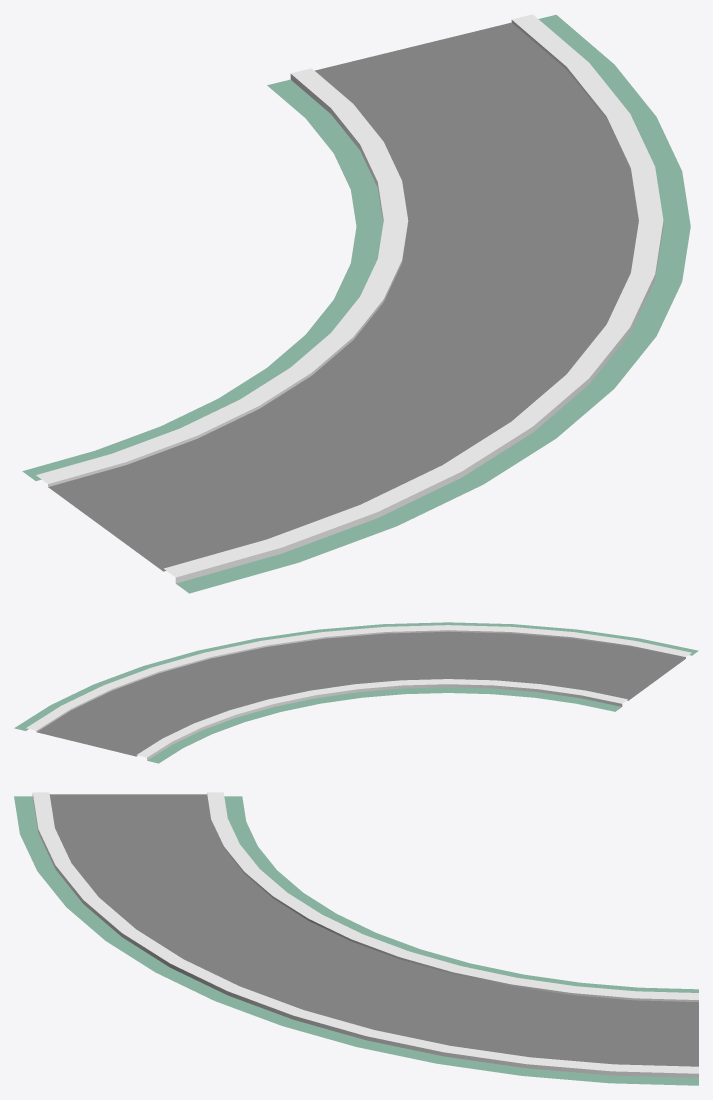
The model's file is roadCornerLarger.glb.
The picture shows the model from 3 angles, top to bottom: view 1: azimuth 30°, elevation 25°; view 2: azimuth 150°, elevation 25°; view 3: azimuth 270°, elevation 25°; orthographic projection. The views are drawn at different scales.
Visible parts, largest first — view 1: roadCornerLarger; view 2: roadCornerLarger; view 3: roadCornerLarger.
Boxes of the visible parts, x1,y1,x2,y2 form: roadCornerLarger: [22, 14, 690, 593]; roadCornerLarger: [14, 622, 698, 763]; roadCornerLarger: [14, 792, 698, 1085].
Bounding box in the file's own units: 3 × 0.02 × 3.
